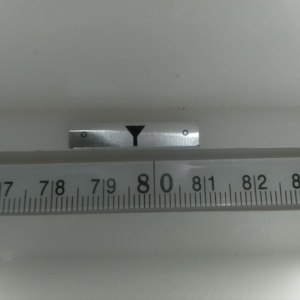0: (159, 173, 172, 193)
1: (208, 176, 214, 191)
2: (257, 174, 267, 189)
7: (38, 180, 49, 196), (89, 178, 99, 194), (2, 181, 12, 196)
8: (137, 173, 150, 193), (54, 179, 65, 195), (241, 174, 251, 190), (191, 176, 201, 191), (291, 173, 300, 189)
9: (106, 178, 116, 194)
finger: (122, 125, 146, 147)
